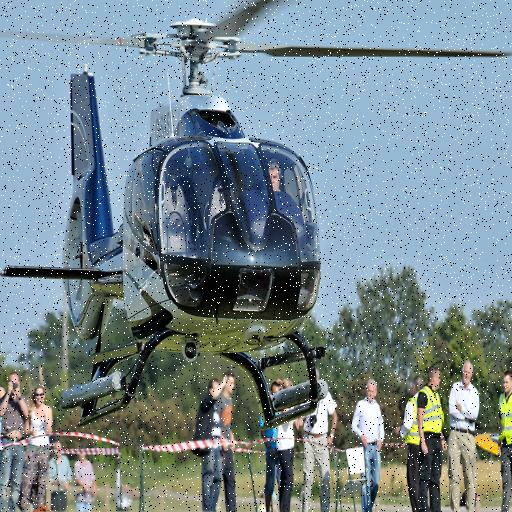helicopter: (1, 1, 364, 483)
